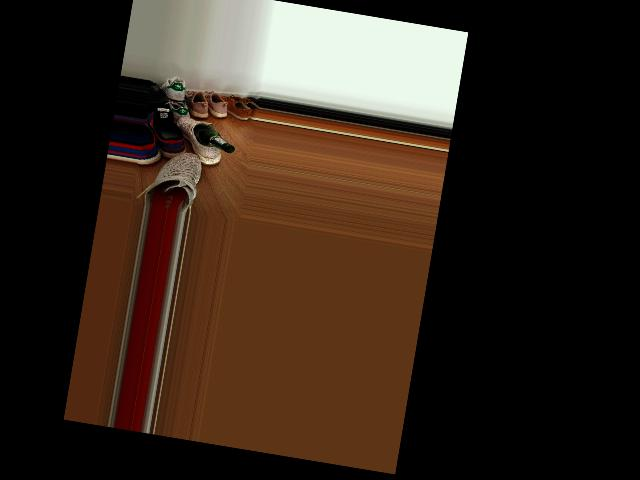beer: (190, 123, 238, 154)
